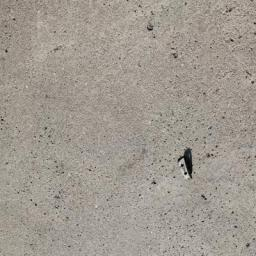FOD: (174, 146, 200, 185)
